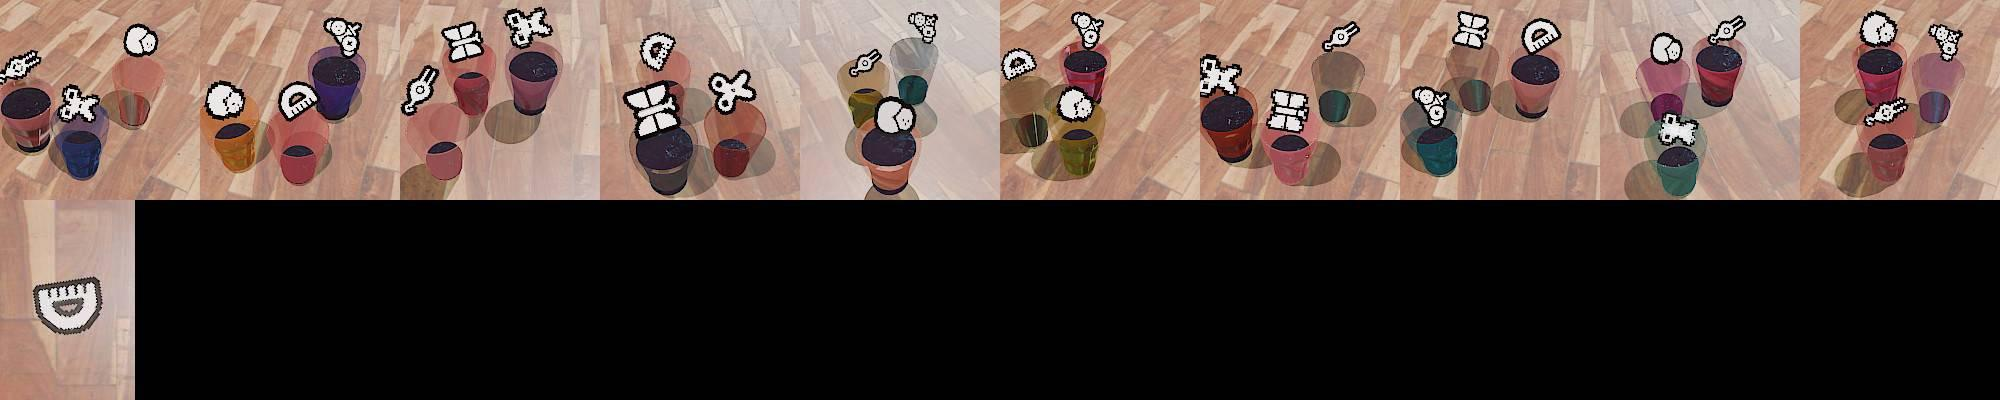icon: (32, 275, 105, 336), (625, 81, 684, 140), (707, 68, 757, 116), (503, 6, 553, 50), (1266, 87, 1312, 134), (440, 19, 486, 63), (1199, 54, 1243, 98), (55, 83, 101, 124), (401, 65, 438, 115), (277, 80, 320, 122), (322, 16, 363, 60), (1655, 112, 1701, 148), (874, 95, 915, 135), (1411, 85, 1450, 127), (1520, 18, 1562, 57), (204, 79, 246, 118), (0, 49, 43, 87), (638, 31, 677, 72), (1858, 10, 1899, 48), (1452, 11, 1490, 50), (1055, 86, 1095, 122), (1863, 96, 1910, 125), (1070, 11, 1104, 50), (1929, 23, 1962, 62), (1001, 47, 1037, 81), (123, 23, 158, 57), (1322, 21, 1359, 53), (907, 10, 939, 45), (1711, 15, 1746, 45), (1650, 32, 1682, 64), (849, 49, 883, 78)
